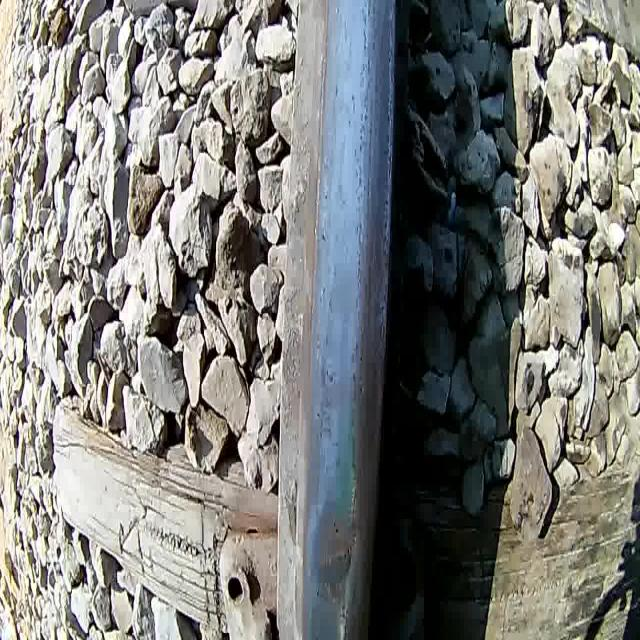Cracks: (339, 605, 353, 640)
Squats: (305, 488, 362, 610)
